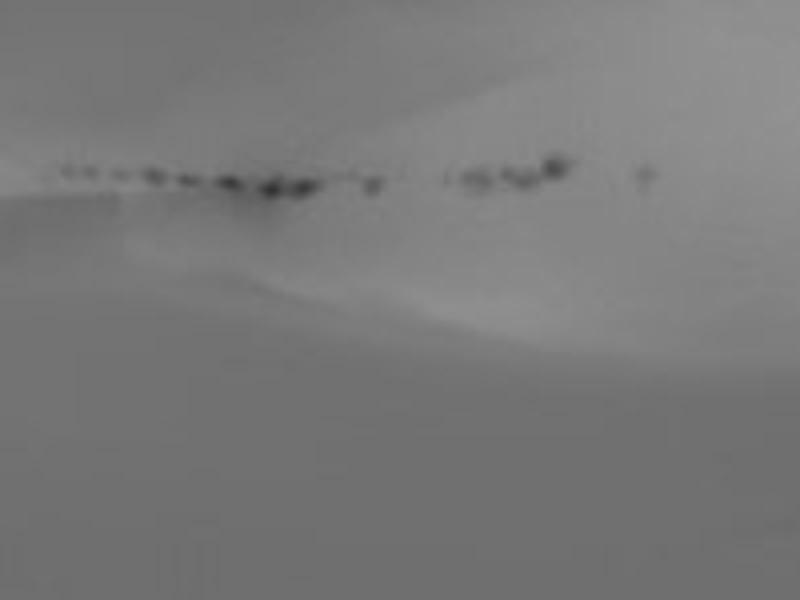defect: (501, 165, 537, 192), (460, 168, 493, 196), (540, 152, 569, 179), (635, 162, 655, 199), (258, 175, 285, 199), (142, 167, 170, 186), (215, 173, 243, 192), (291, 179, 318, 197), (175, 171, 203, 188), (364, 175, 381, 199), (108, 163, 129, 180), (78, 164, 98, 181), (58, 161, 75, 180)
